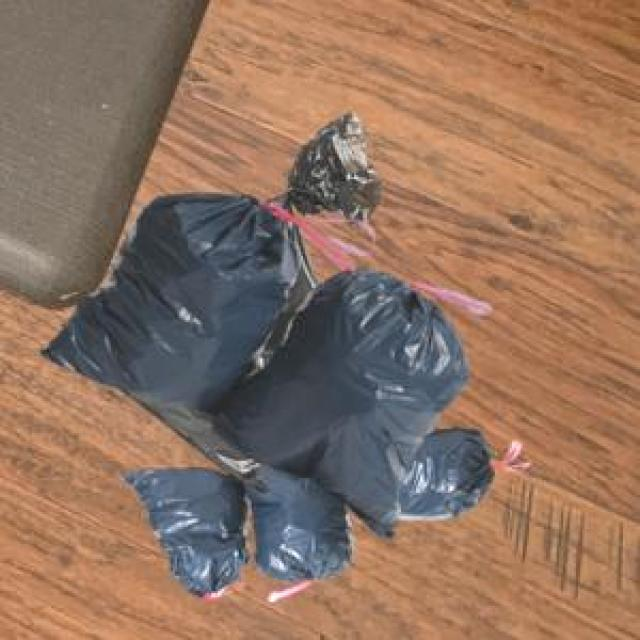Trashbag: (45, 187, 278, 414), (264, 271, 425, 490), (121, 463, 245, 591), (252, 479, 342, 579), (416, 423, 498, 520)
